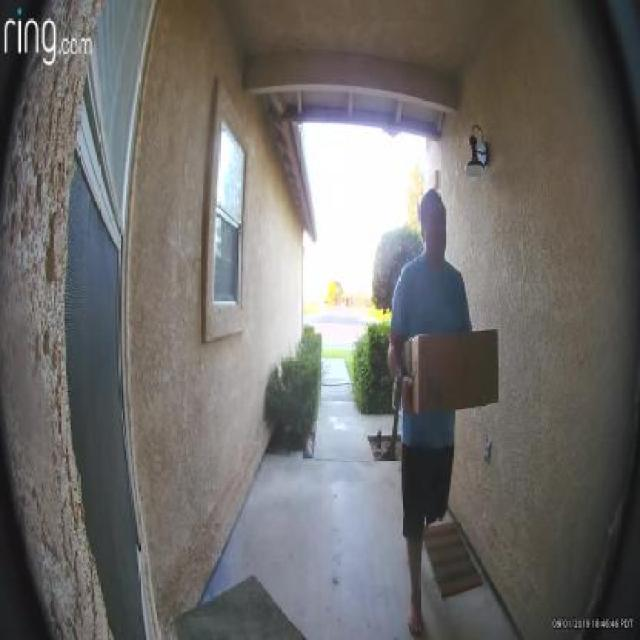cardboxes: (400, 324, 502, 419)
